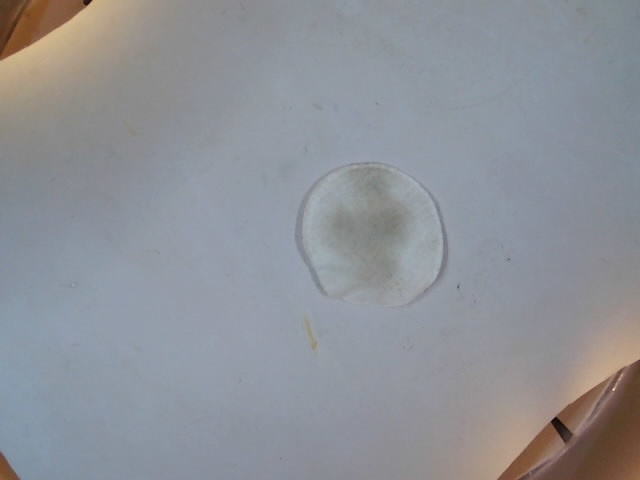plastic: (288, 148, 455, 316)
